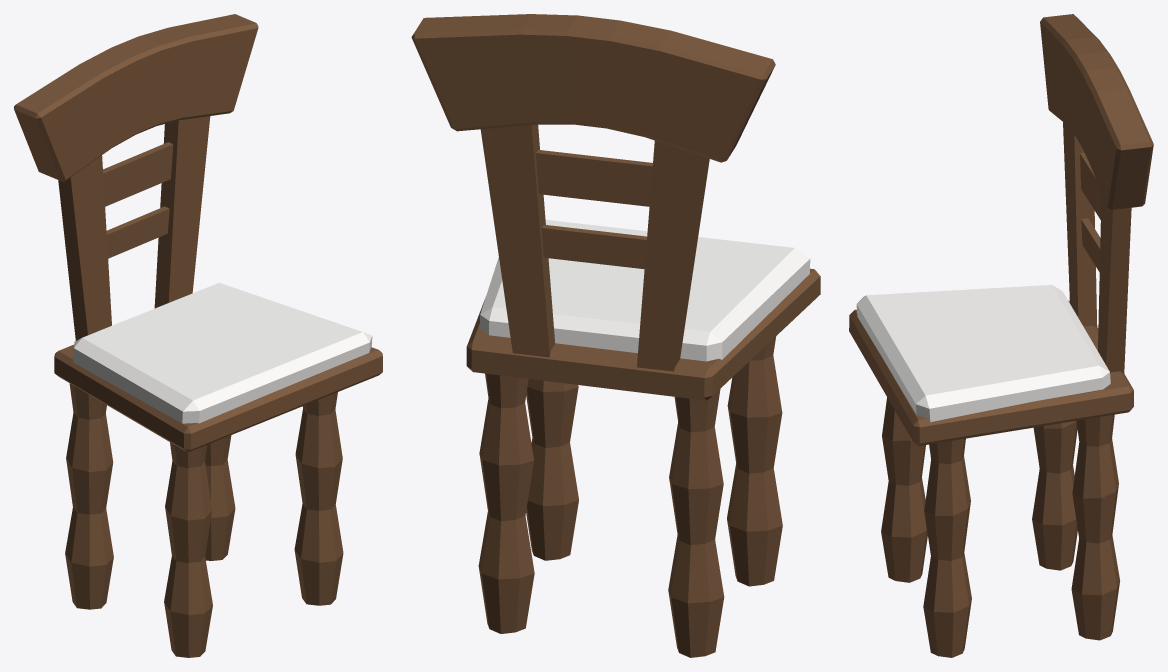
Rendered from Dining Chair_Wooden.fbx.
The picture shows the model from 3 angles, left to right: view 1: azimuth 30°, elevation 25°; view 2: azimuth 150°, elevation 25°; view 3: azimuth 270°, elevation 25°; orthographic projection. The views are drawn at different scales.
Parts seen in each view (by area): view 1: Dining Chair_Wooden.002; view 2: Dining Chair_Wooden.002; view 3: Dining Chair_Wooden.002.
Part boxes in pixels (x1,y1,x2,y2): Dining Chair_Wooden.002: [14, 14, 382, 657]; Dining Chair_Wooden.002: [411, 14, 820, 657]; Dining Chair_Wooden.002: [849, 14, 1153, 657].
Bounding box in the file's own units: 498 × 854 × 441.
